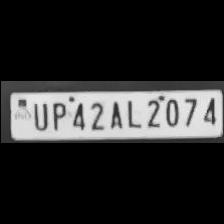0: (160, 96, 180, 128)
2: (141, 96, 161, 130), (86, 98, 104, 132)
4: (66, 98, 86, 132), (198, 95, 218, 127)
7: (180, 95, 198, 127)
A: (105, 98, 123, 130)
L: (122, 97, 142, 129)
P: (47, 99, 66, 131)
U: (28, 99, 48, 131)
